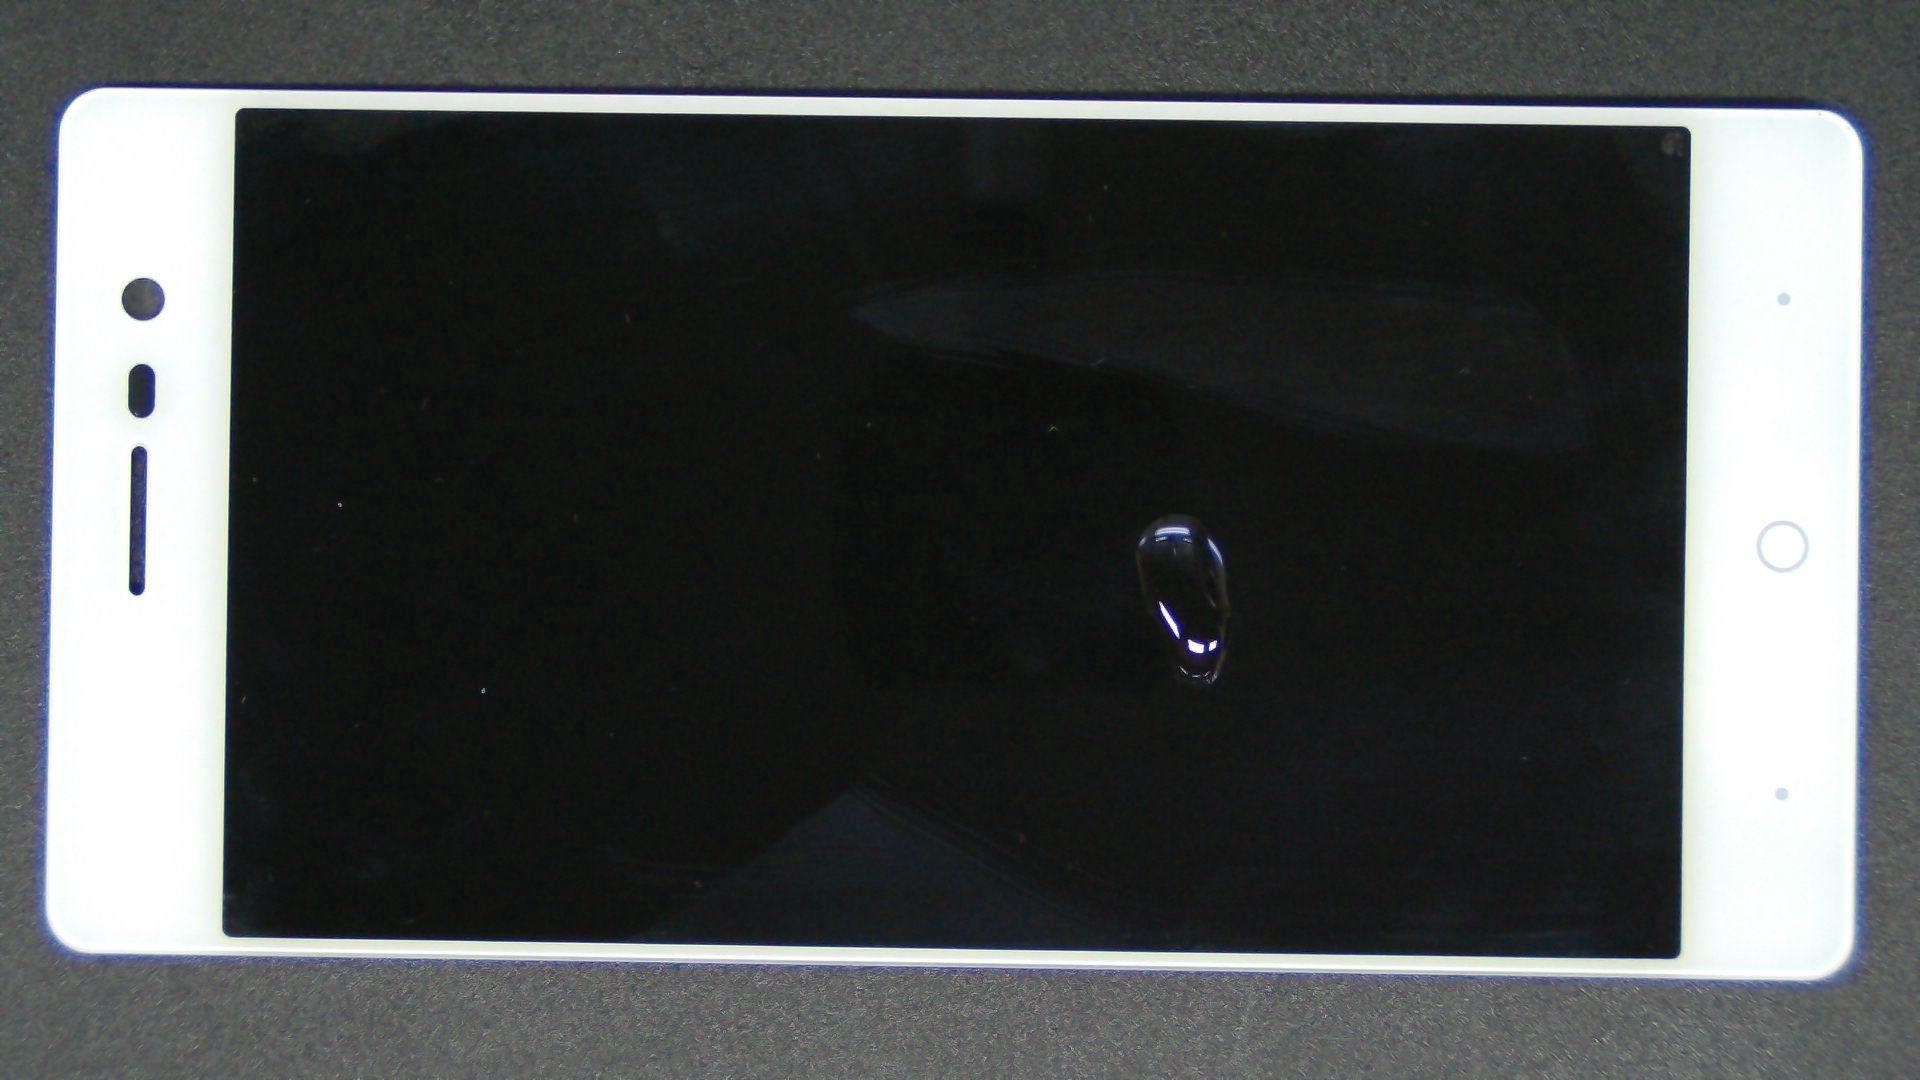oil: (587, 257, 1759, 773)
